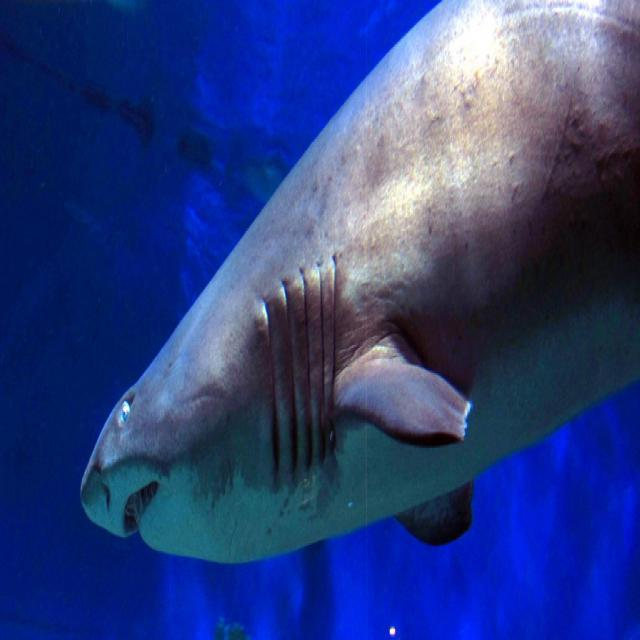Shark: (78, 0, 640, 564)
